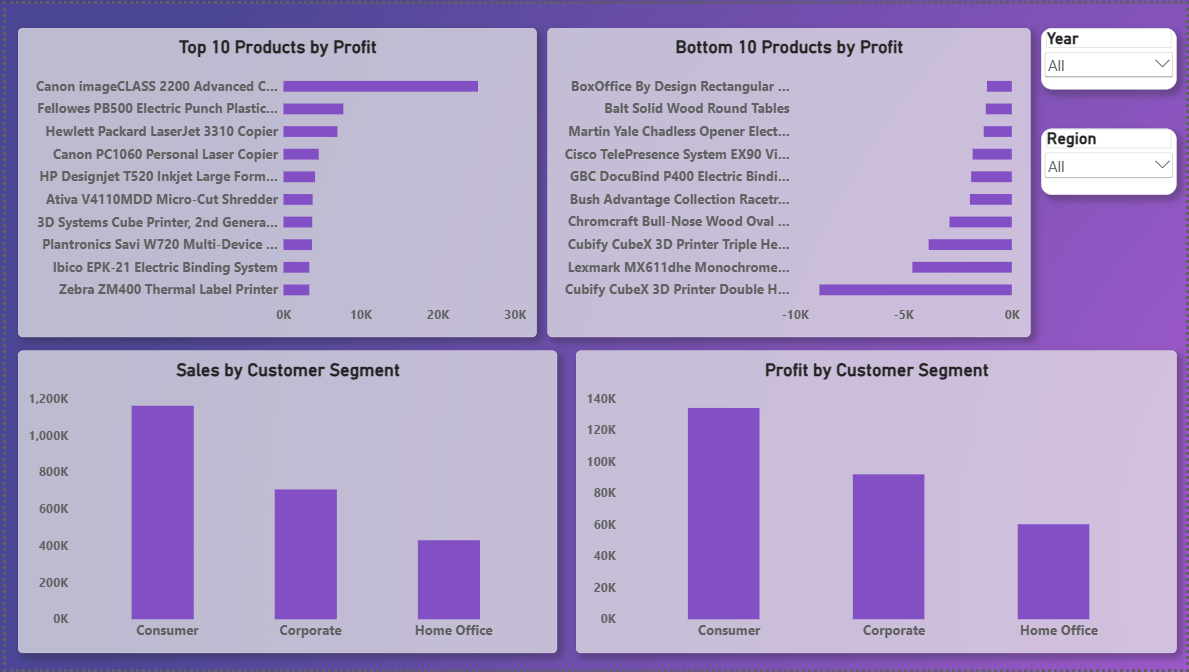

What the dashboard file says about the page in this screenshot:
{"tool":"powerbi","page":{"name":"Customer & Product Analysis","canvas":[1920,1080],"ordinal":1},"visuals":[{"type":"clusteredBarChart","title":"Top 10 Products by Profit","fields":{"Category":["Orders.Product Name"],"Y":["Measures (2).Total_Profit"]},"box":[20.5,38.5,843.6,502.6],"z":0},{"type":"clusteredBarChart","title":"Bottom 10 Products by Profit","fields":{"Category":["Orders.Product Name"],"Y":["Measures (2).Total_Profit"]},"box":[880.5,39,785.4,502.4],"z":1000},{"type":"clusteredColumnChart","title":"Sales by Customer Segment","fields":{"Category":["Orders.Segment"],"Y":["Measures (2).Total_Sales"]},"box":[20.5,564.1,876.9,492.3],"z":2000},{"type":"clusteredColumnChart","title":"Profit by Customer Segment","fields":{"Category":["Orders.Segment"],"Y":["Measures (2).Total_Profit"]},"box":[925.6,564.1,976.9,492.3],"z":3000},{"type":"slicer","fields":{"Values":["Orders.Year"]},"box":[1682.1,38.5,220.5,100],"z":4000},{"type":"slicer","fields":{"Values":["Orders.Region"]},"box":[1682.1,202.6,220.5,107.7],"z":5000}]}

Visuals, with their boxes in screenshot pixels (x1, y1, x2, y2), scaled from the page's 1920x1080 canvas onto the 1189x672 screenshot:
"Top 10 Products by Profit" clusteredBarChart: Rect(13, 24, 535, 337)
"Bottom 10 Products by Profit" clusteredBarChart: Rect(545, 24, 1032, 337)
"Sales by Customer Segment" clusteredColumnChart: Rect(13, 351, 556, 657)
"Profit by Customer Segment" clusteredColumnChart: Rect(573, 351, 1178, 657)
slicer - Orders.Year: Rect(1042, 24, 1178, 86)
slicer - Orders.Region: Rect(1042, 126, 1178, 193)
